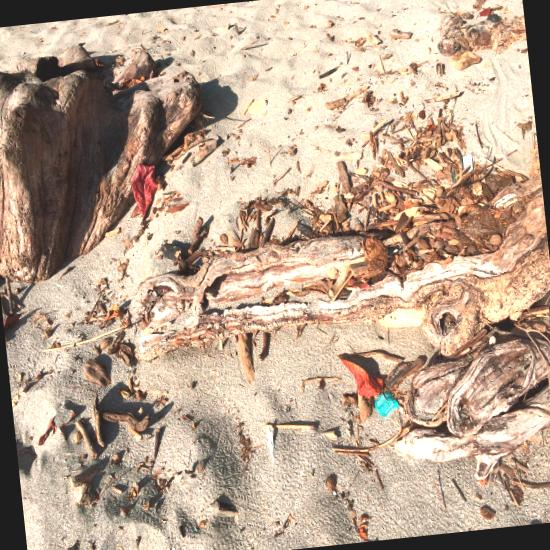Other plastic: (374, 391, 399, 419)
Other plastic bottle: (267, 424, 274, 463), (451, 170, 456, 183)
Unlabeled litter: (461, 154, 473, 172)
